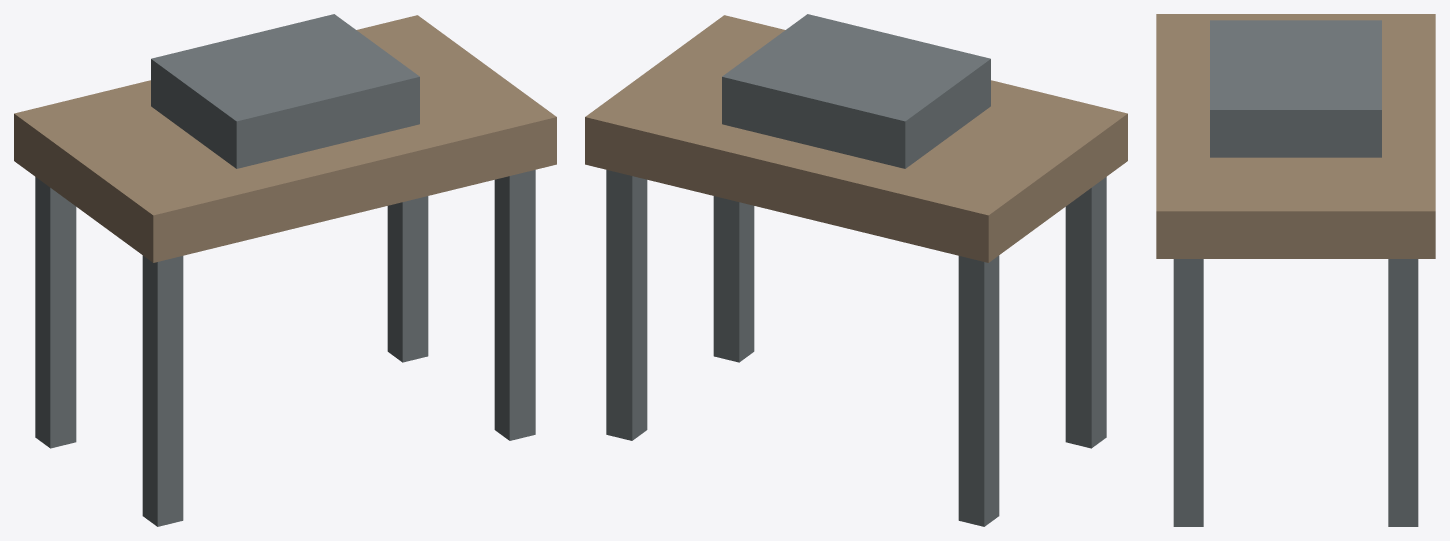
The model's file is iz2_farm_seedling_tray.glb.
The picture shows the model from 3 angles, left to right: view 1: azimuth 30°, elevation 25°; view 2: azimuth 150°, elevation 25°; view 3: azimuth 270°, elevation 25°; orthographic projection.
Visible parts, largest first — view 1: body; view 2: body; view 3: body.
Boxes of the visible parts, x1,y1,x2,y2 form: body: [14, 14, 556, 526]; body: [585, 14, 1127, 526]; body: [1156, 14, 1435, 526].
Bounding box in the file's own units: 1.08 × 0.9416 × 0.6451.
